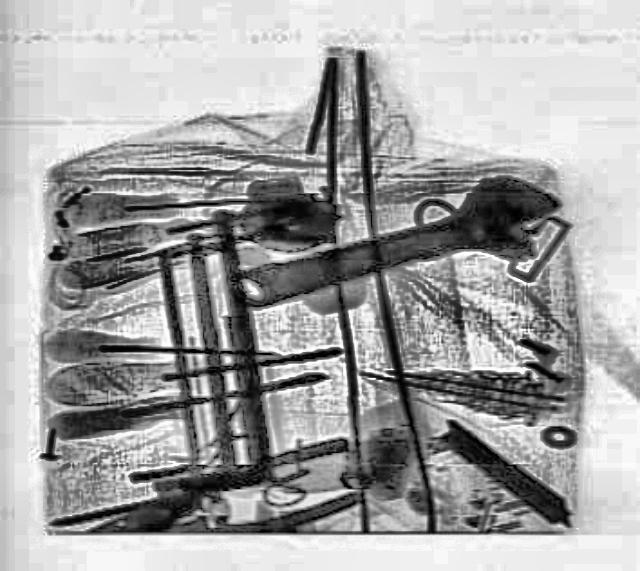Pliers: (82, 433, 368, 570)
Wrench: (215, 160, 575, 334)
